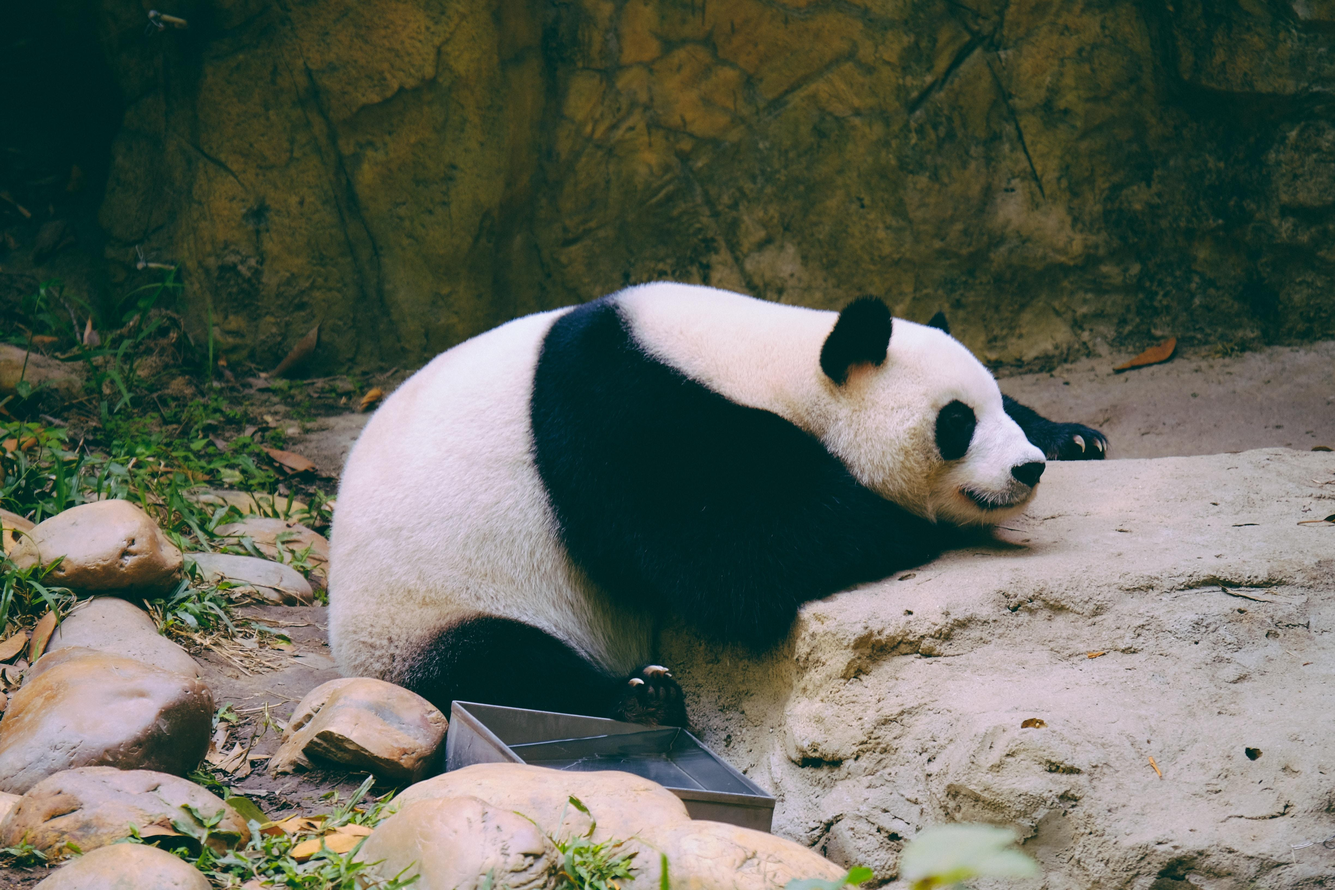panda: (323, 270, 1116, 737)
